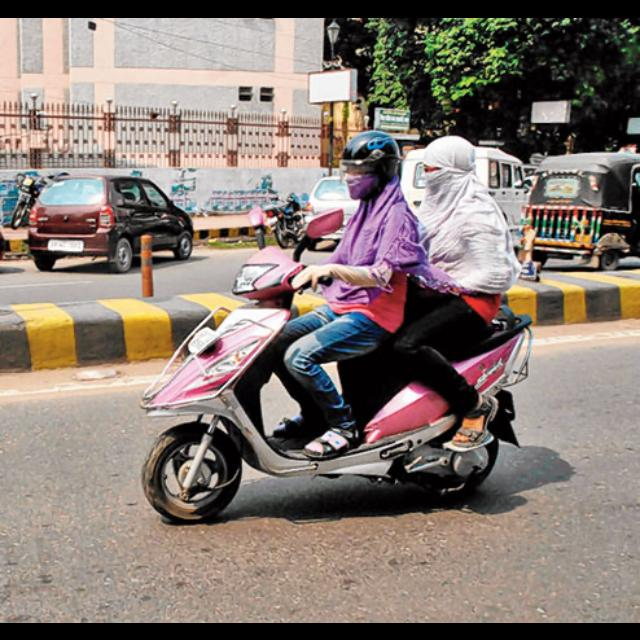With Helmet: (338, 126, 406, 200)
